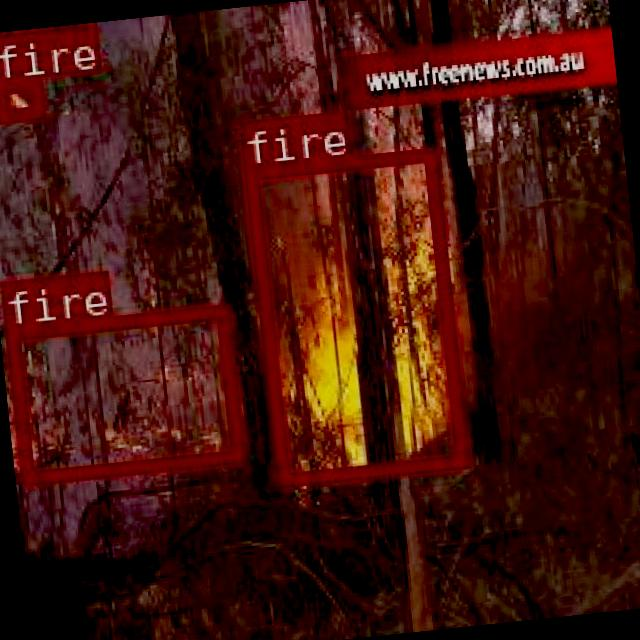fire: (243, 146, 465, 486), (2, 302, 241, 483), (0, 74, 42, 121)
